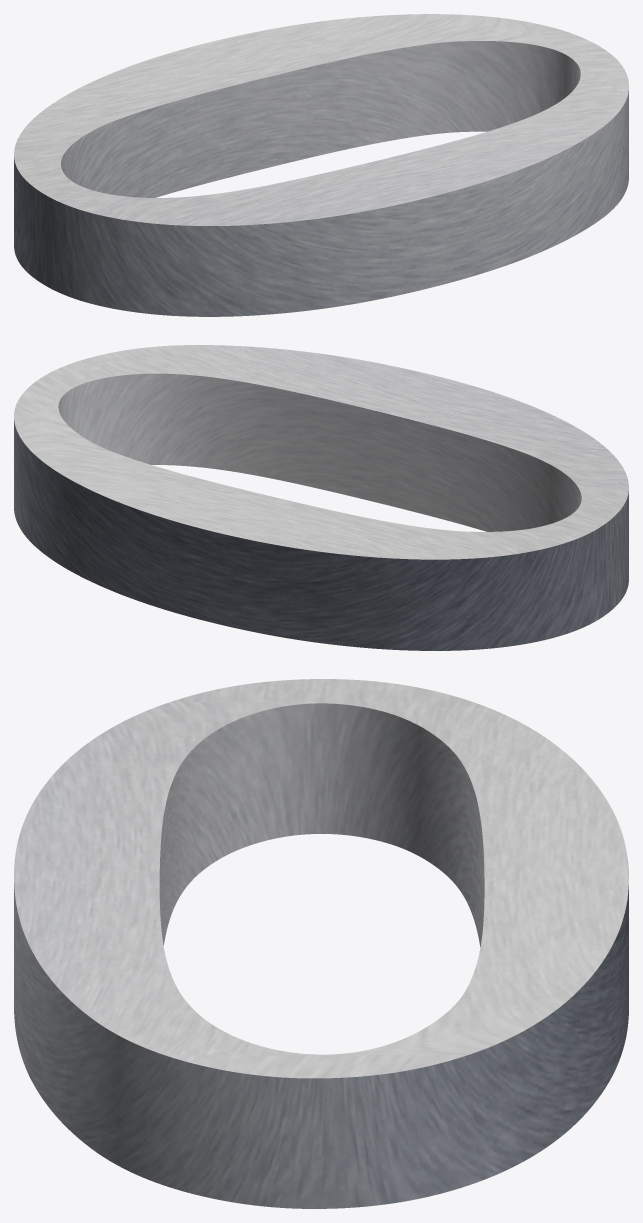
Rendered from number0.obj.
The picture shows the model from 3 angles, top to bottom: view 1: azimuth 30°, elevation 25°; view 2: azimuth 150°, elevation 25°; view 3: azimuth 270°, elevation 25°; orthographic projection. The views are drawn at different scales.
Visible parts, largest first — view 1: Text.023; view 2: Text.023; view 3: Text.023.
Boxes of the visible parts, x1,y1,x2,y2 form: Text.023: (14,14,628,316); Text.023: (14,345,628,650); Text.023: (14,679,628,1208).
Size of the model in its own units: 1.05 by 0.1602 by 0.6842.
